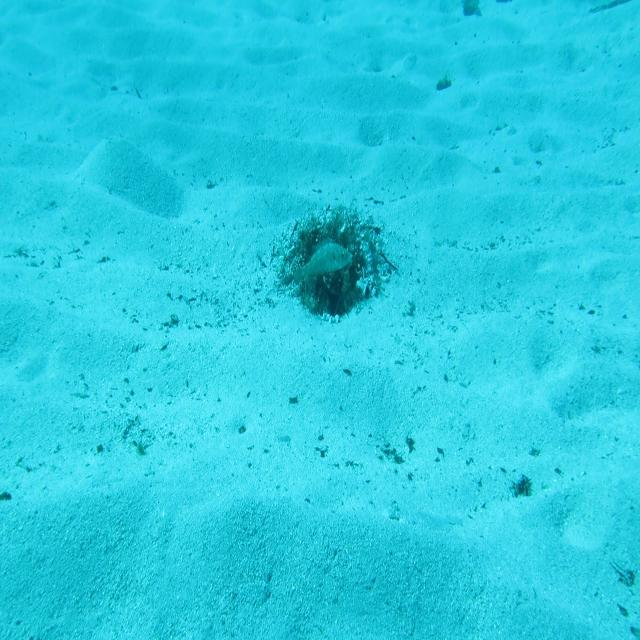MAN: (292, 236, 354, 286)
nest: (281, 207, 388, 322)
vegetation: (512, 474, 533, 498), (436, 75, 452, 90)
